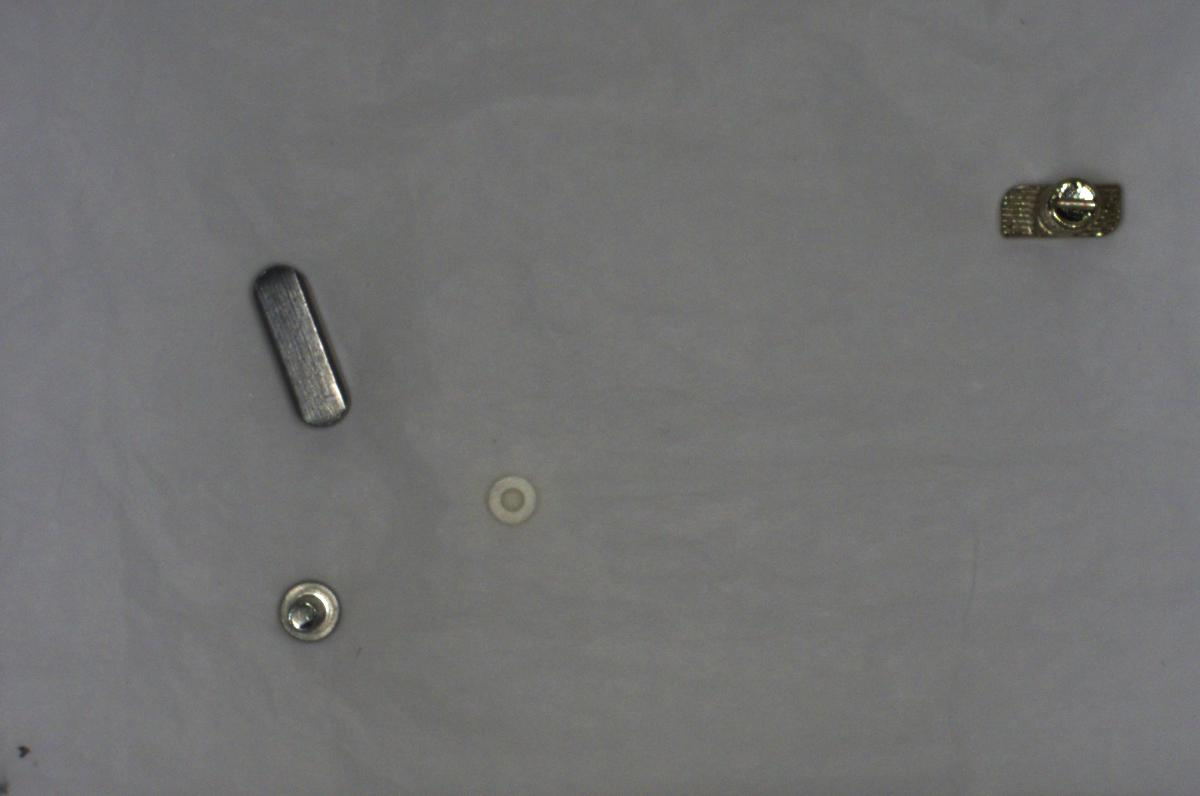Keybar: (250, 260, 350, 434)
Plastic cushion pillar: (474, 469, 544, 529)
Round head screw: (272, 573, 351, 650)
T-shaped screw: (988, 158, 1138, 249)
